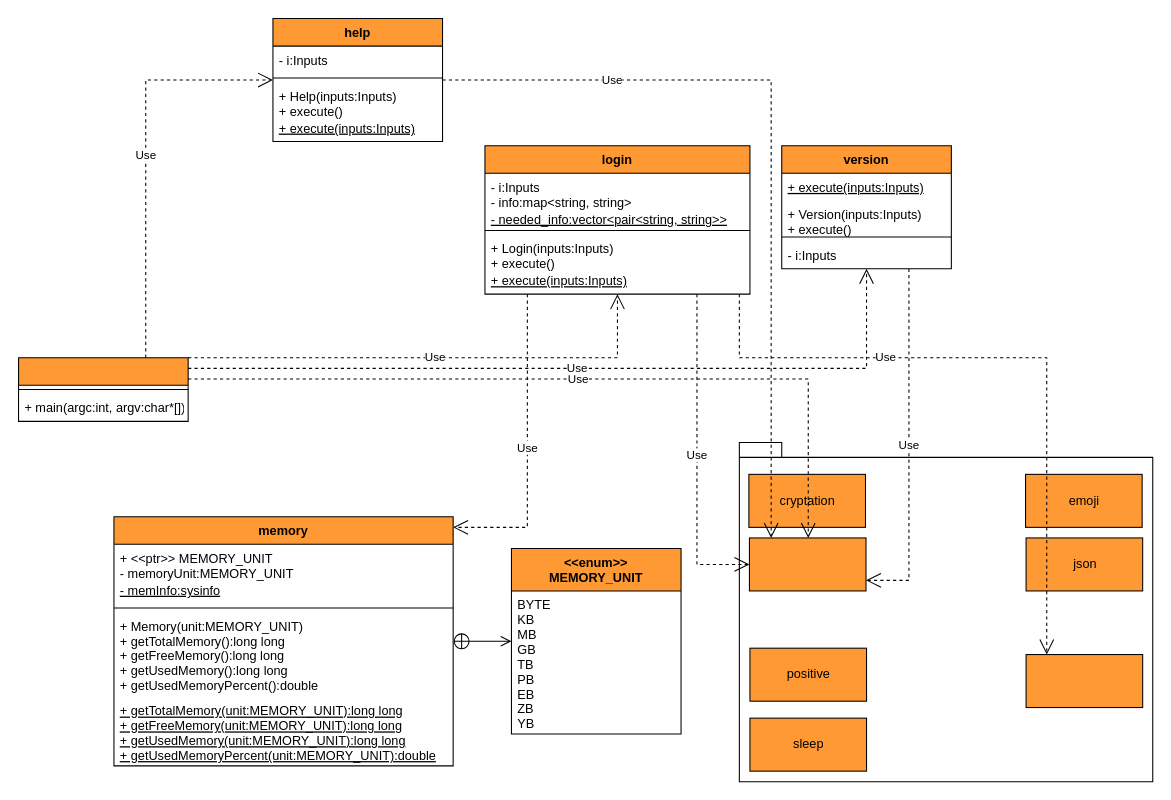
This 1171x800 diagram has some shape labels left out. The shapes that lost their labels are listed below. From the top down, each one's box as (x1, y1, x2, y2) in pixels, then its label:
(17, 357, 188, 421): manager
(748, 537, 866, 591): inputs
(738, 441, 1153, 782): librerias-createstructure
(1025, 653, 1143, 708): rest
